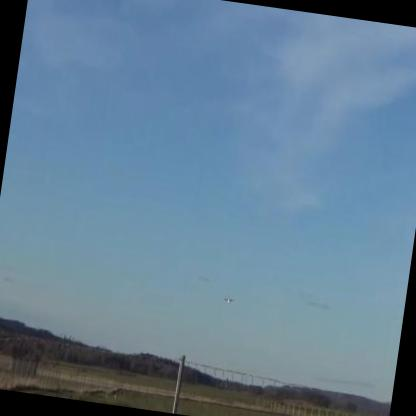plane: (222, 293, 240, 307)
